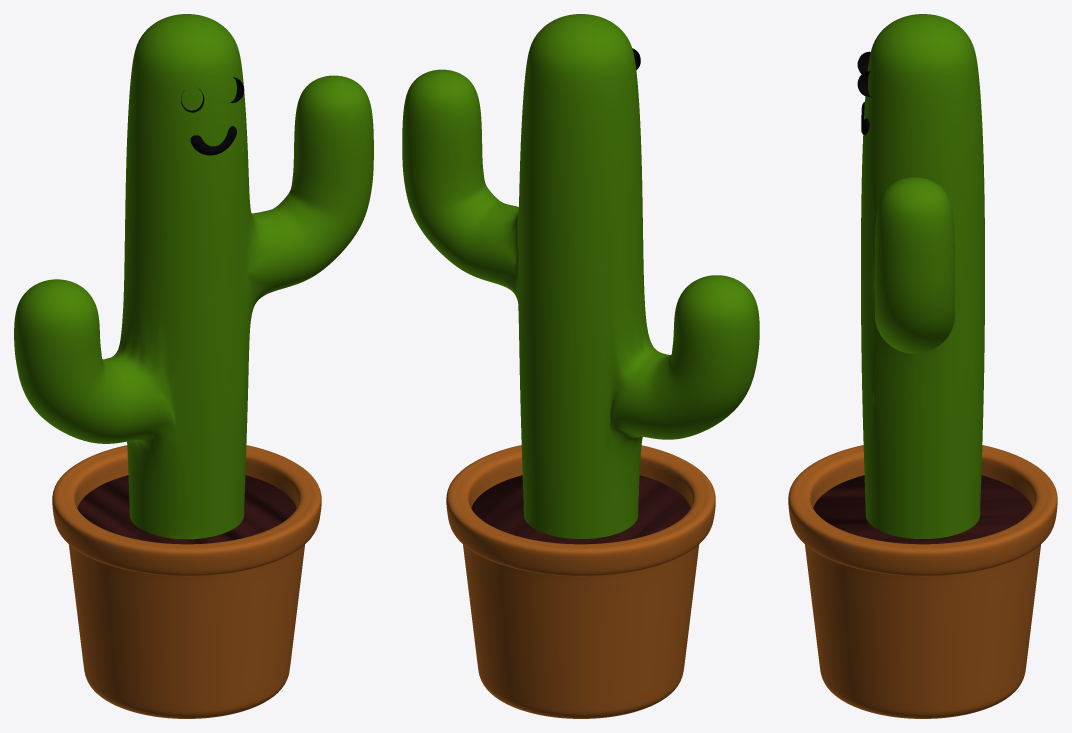
File: cactus.glb
The picture shows the model from 3 angles, left to right: view 1: azimuth 30°, elevation 25°; view 2: azimuth 150°, elevation 25°; view 3: azimuth 270°, elevation 25°; orthographic projection.
Parts seen in each view (by area): view 1: Cactus; view 2: Cactus; view 3: Cactus.
Boxes of the visible parts, <box> form: Cactus: <box>14,14,373,718</box>; Cactus: <box>402,14,759,718</box>; Cactus: <box>788,14,1057,718</box>.
Size of the model in its own units: 15.42 by 27.98 by 10.36.
